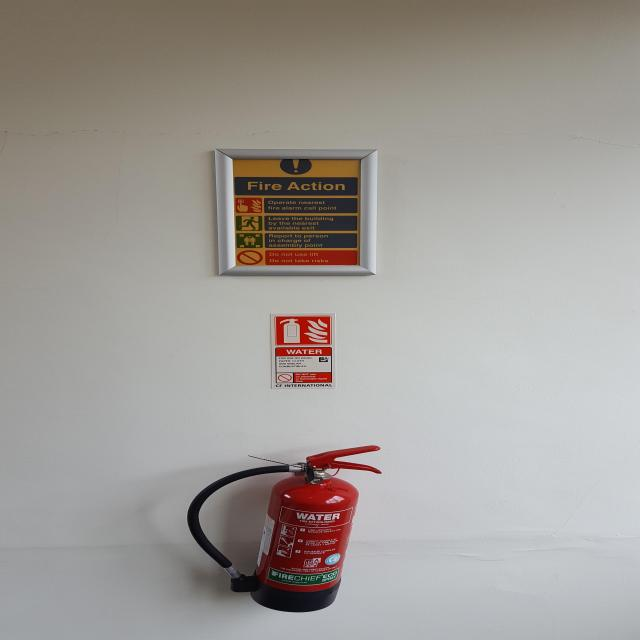fire_extinguisher: (181, 441, 388, 617)
